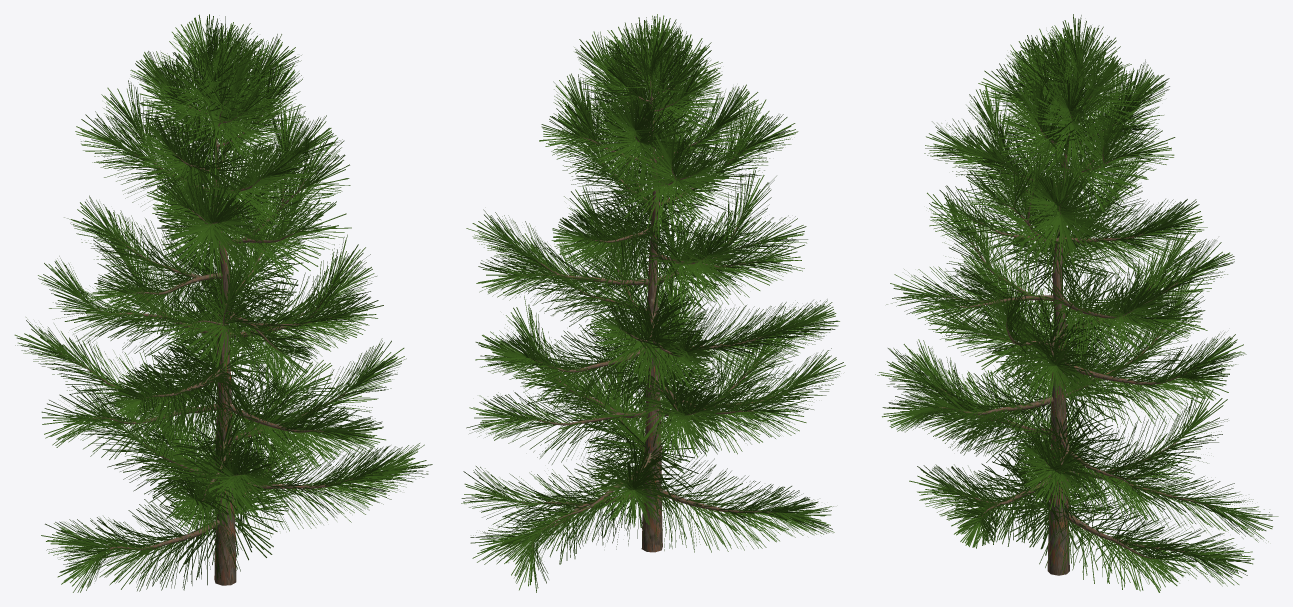
File: Shorter Fat Tree.fbx
3 views of the same model, side by side, from view 1: azimuth 30°, elevation 25°; view 2: azimuth 150°, elevation 25°; view 3: azimuth 270°, elevation 25° (orthographic). The views are drawn at different scales.
Parts seen in each view (by area): view 1: leaves, tree; view 2: leaves, tree; view 3: leaves, tree.
Boxes of the visible parts, left/top/right/bottom form: leaves: left=14, top=14, right=432, bottom=592; tree: left=61, top=78, right=381, bottom=585; leaves: left=461, top=14, right=845, bottom=592; tree: left=500, top=68, right=802, bottom=553; leaves: left=875, top=14, right=1278, bottom=592; tree: left=938, top=77, right=1216, bottom=575.
Bounding box in the file's own units: 2318 × 3494 × 2329.
2 materials, 1 textured.
